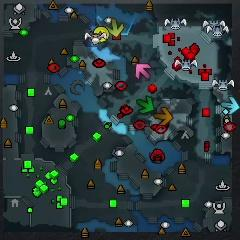p4: (93, 26, 110, 43)
x1: (135, 64, 152, 80)
x2: (104, 19, 125, 36)
x3: (221, 96, 240, 114)
x4: (137, 96, 154, 114)
x5: (155, 107, 173, 125)
